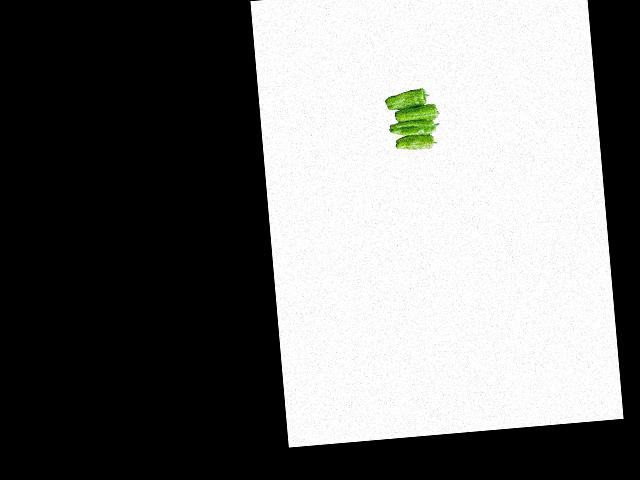bell_pepper: (380, 87, 432, 111)
